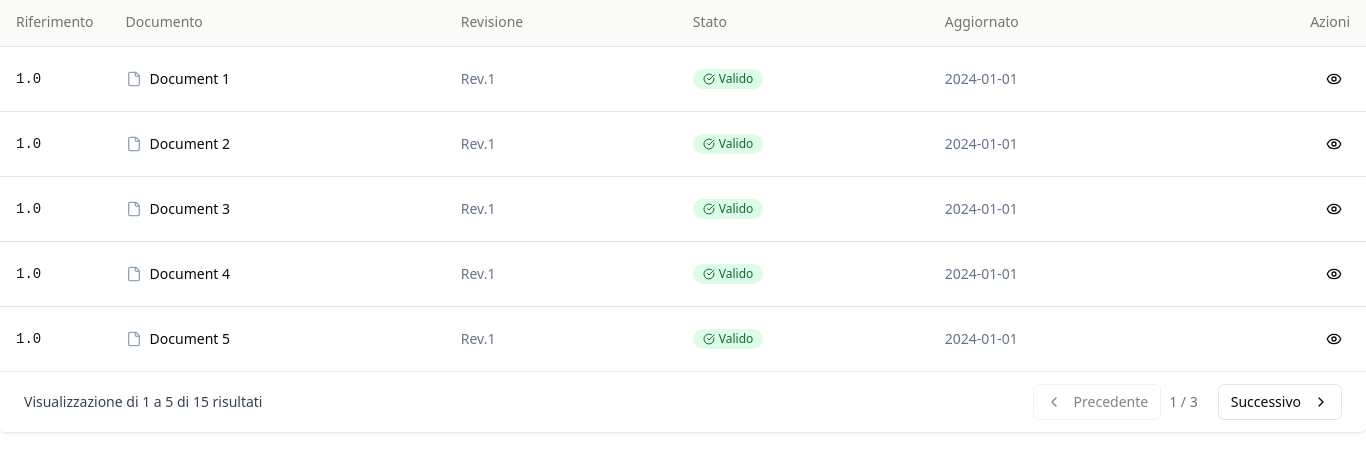
DocumentTable Component Tests › Pagination › should handle pagination navigation
expect the text "Document 1" is shown: met, box [150,68,230,88]
expect the text "Document 6" is not shown: met
Click next page
Step 1. Click the button "Successivo" → click(1280, 402), box [1218,384,1342,420]
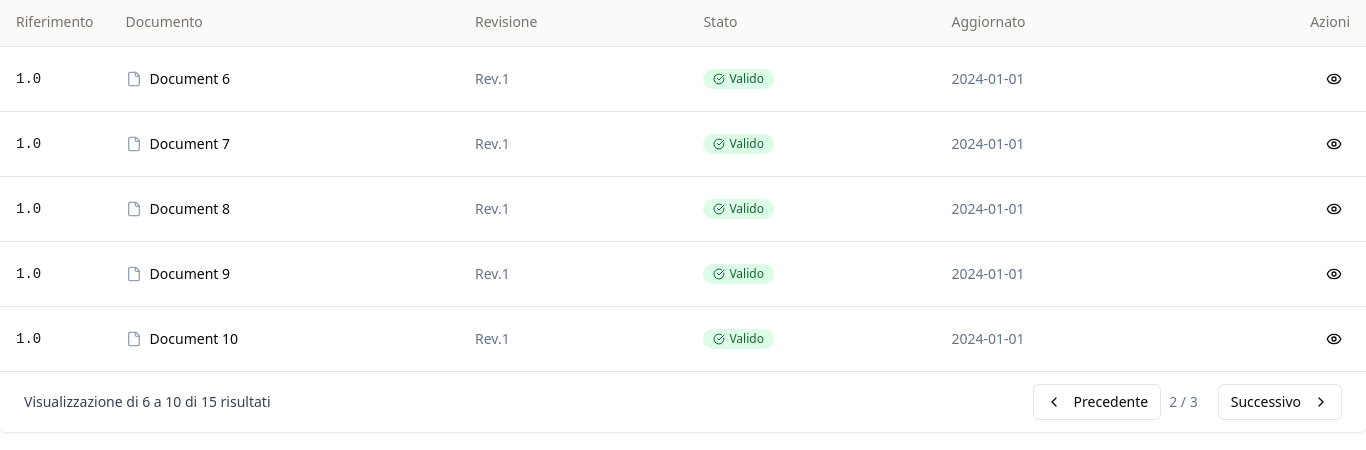
expect the text "Document 6" is shown: met, box [150,68,230,88]
